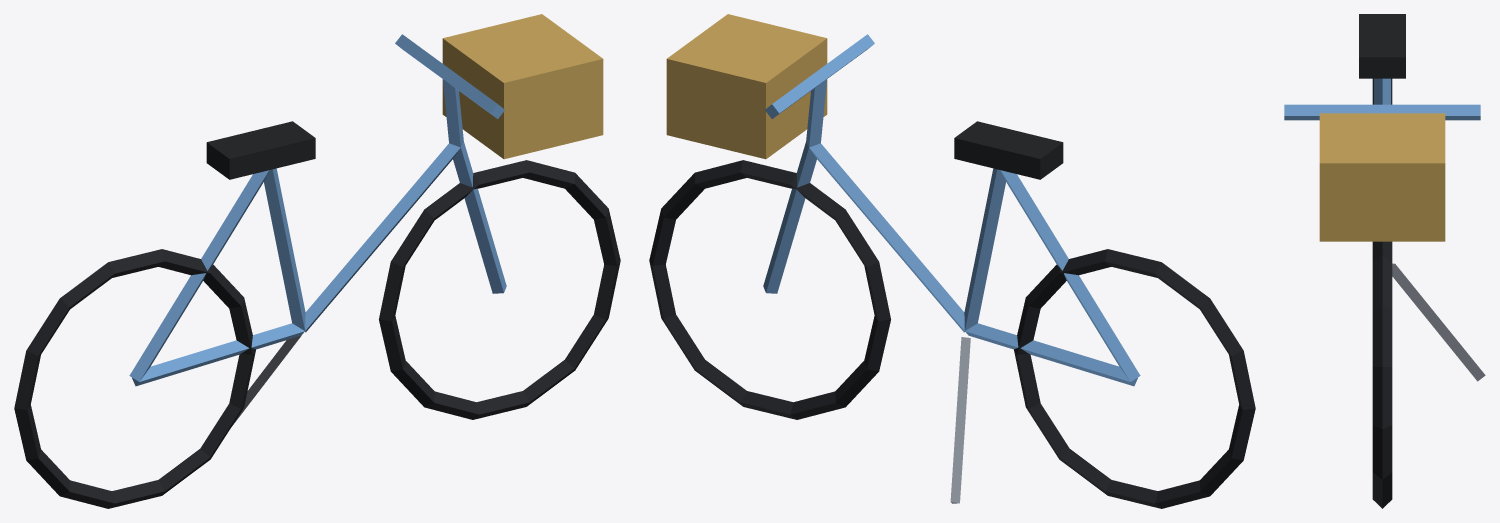
Rendered from cykel_parkerad.glb.
3 renders of one model, left to right at view 1: azimuth 30°, elevation 25°; view 2: azimuth 150°, elevation 25°; view 3: azimuth 270°, elevation 25°, orthographic. The views are drawn at different scales.
Visible parts, largest first — view 1: cykel_parkerad; view 2: cykel_parkerad; view 3: cykel_parkerad.
Boxes of the visible parts, <box> form: cykel_parkerad: <box>14,14,620,508</box>; cykel_parkerad: <box>649,14,1255,508</box>; cykel_parkerad: <box>1284,14,1485,508</box>.
Size of the model in its own units: 1.83 by 1.04 by 0.5126.
